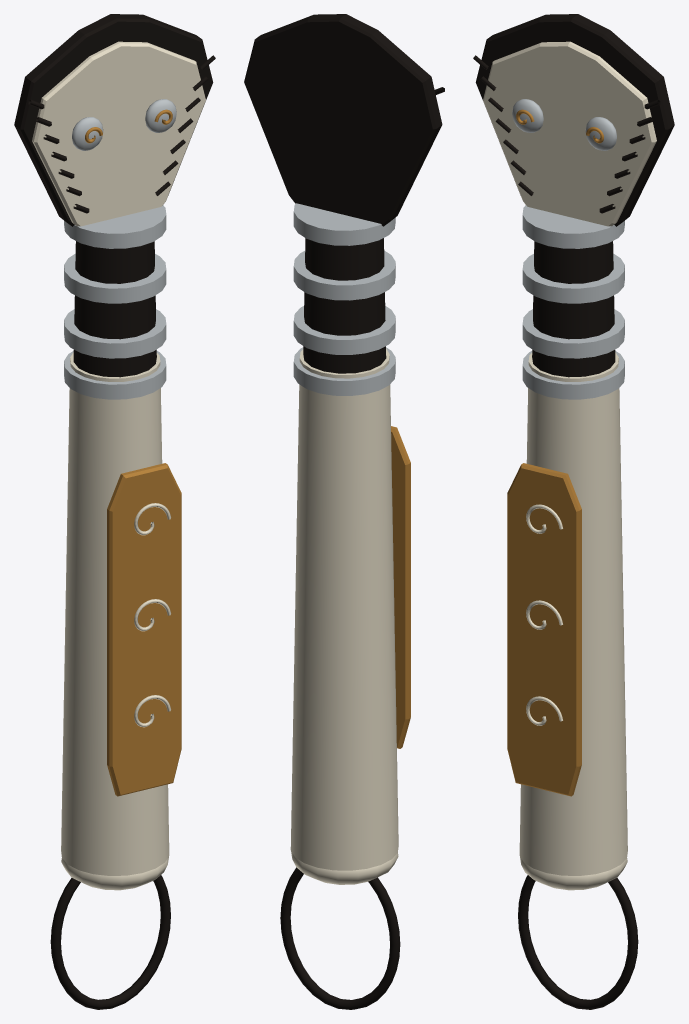
File: grip-CUkMIdAB.glb
The picture shows the model from 3 angles, left to right: view 1: azimuth 30°, elevation 25°; view 2: azimuth 150°, elevation 25°; view 3: azimuth 330°, elevation 25°; orthographic projection.
Visible parts, largest first — view 1: grip • Ivory leather, grip • Warm gold inlay, grip • Black leather fittings, grip • Brushed silver; view 2: grip • Ivory leather, grip • Black leather fittings, grip • Brushed silver, grip • Warm gold inlay; view 3: grip • Ivory leather, grip • Warm gold inlay, grip • Black leather fittings, grip • Brushed silver.
Part boxes in pixels (<box>): grip • Ivory leather: <box>32,41,205,890</box>; grip • Warm gold inlay: <box>85,109,181,796</box>; grip • Black leather fittings: <box>14,14,215,1009</box>; grip • Brushed silver: <box>64,99,176,399</box>; grip • Ivory leather: <box>290,349,398,884</box>; grip • Black leather fittings: <box>244,14,444,1009</box>; grip • Brushed silver: <box>293,203,395,395</box>; grip • Warm gold inlay: <box>391,426,410,748</box>; grip • Ivory leather: <box>483,41,656,890</box>; grip • Warm gold inlay: <box>507,109,603,796</box>; grip • Black leather fittings: <box>473,14,674,1009</box>; grip • Brushed silver: <box>512,99,624,399</box>.
Bounding box in the file's own units: 0.0737 × 0.3625 × 0.0407.
